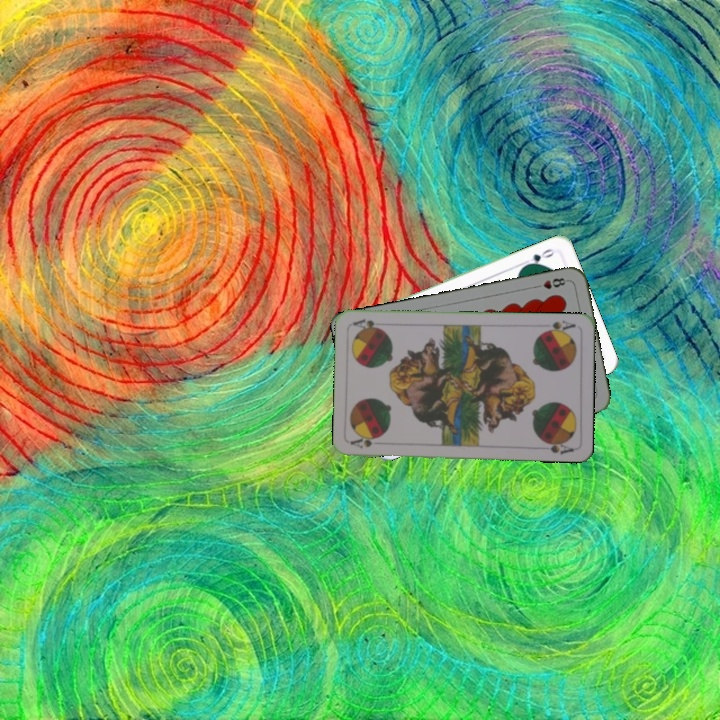GO: (520, 245, 558, 269)
H8: (530, 274, 571, 292)
SA: (538, 316, 578, 336), (347, 433, 388, 451)
